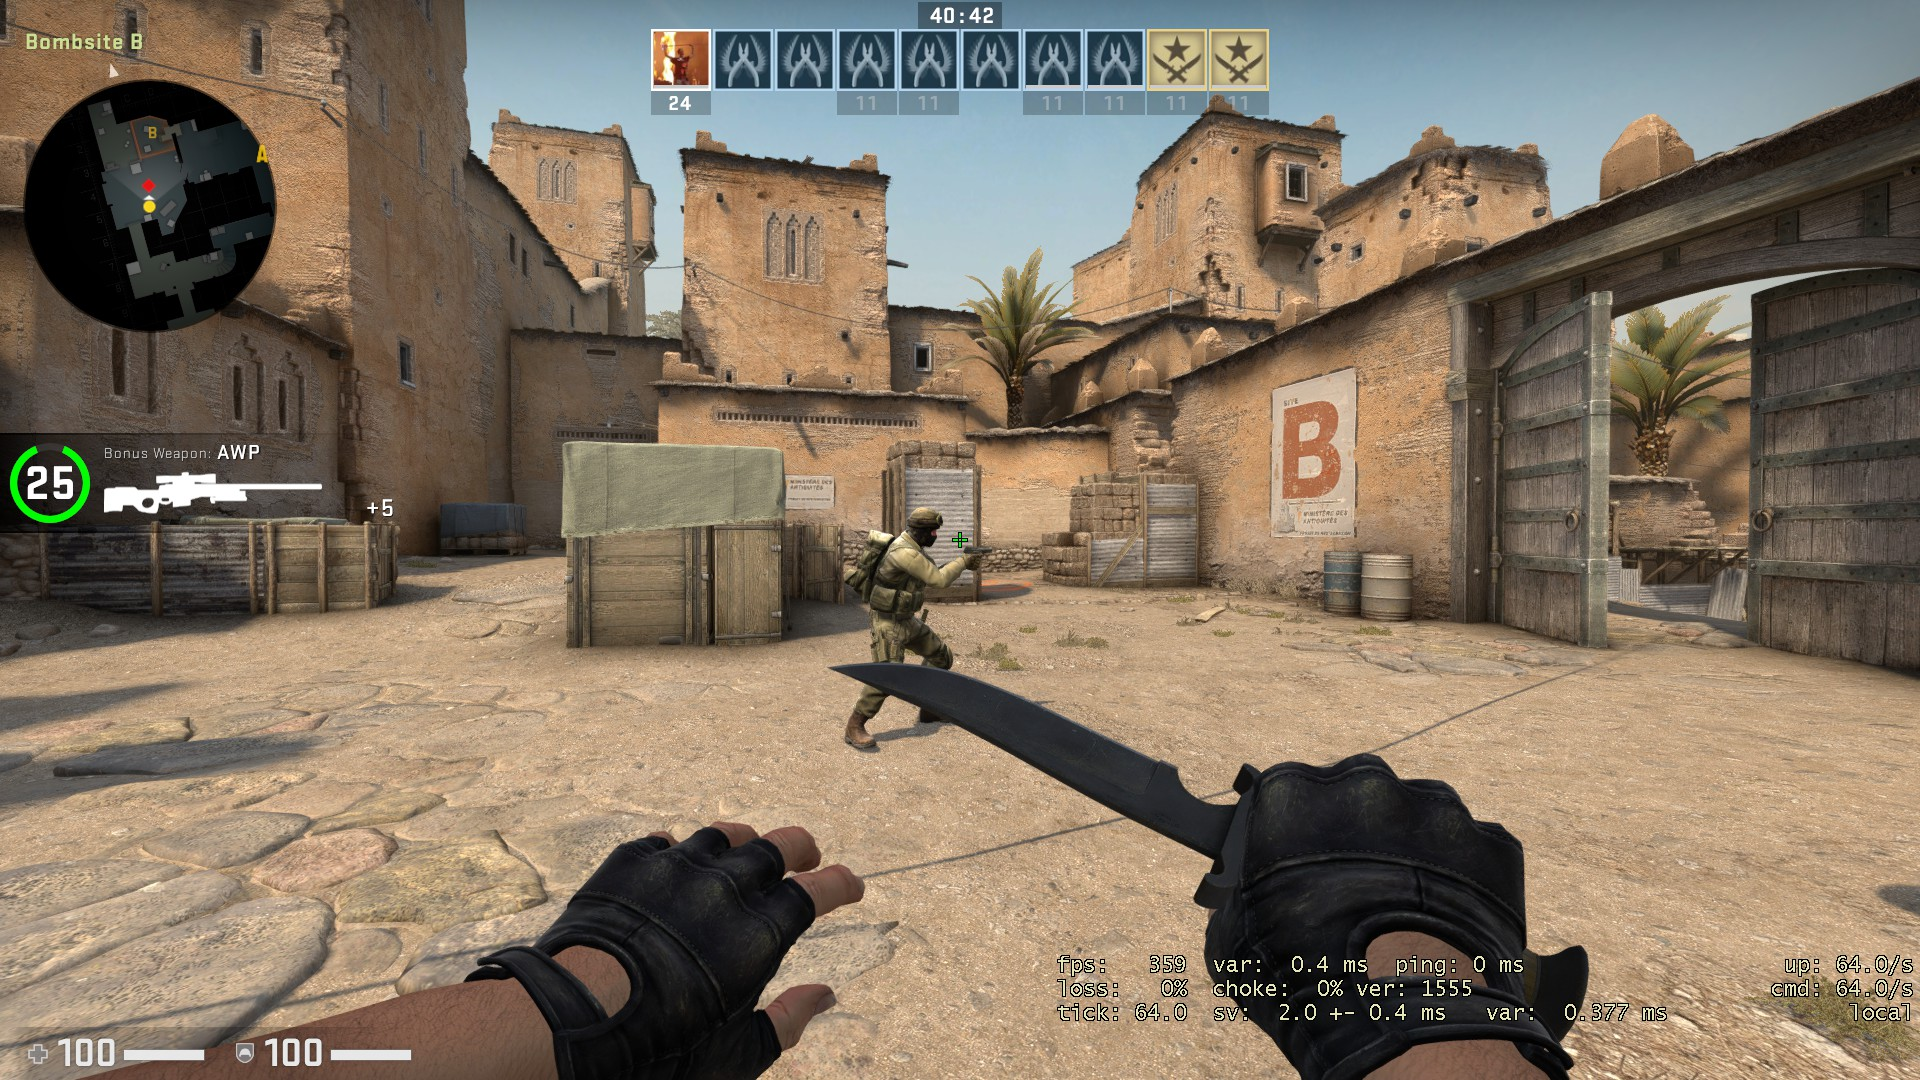player: (841, 501, 994, 750)
